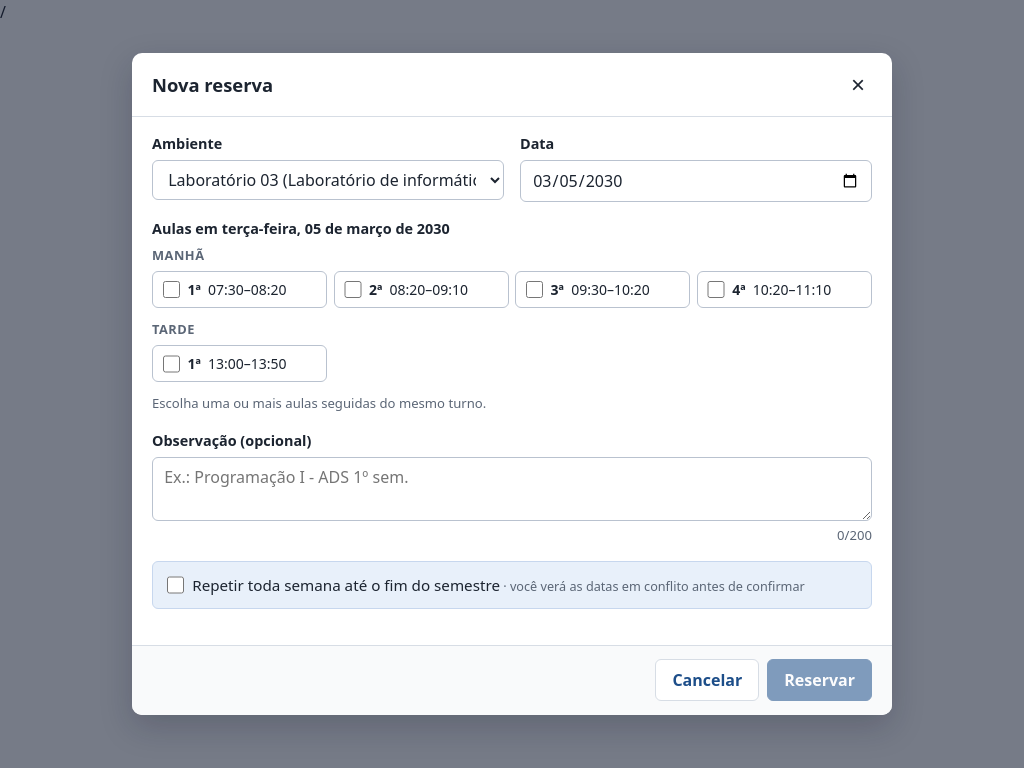
ModalReserva: recorrência com prévia › conflito surgido entre prévia e confirmação refaz a prévia mantendo a seleção ainda livre
This screenshot has width=1024, height=768.
Expected: the text "Aulas em" is shown, [152, 219, 450, 238]
Click the 6th checkbox.
click(175, 585)  # box [167, 576, 184, 594]
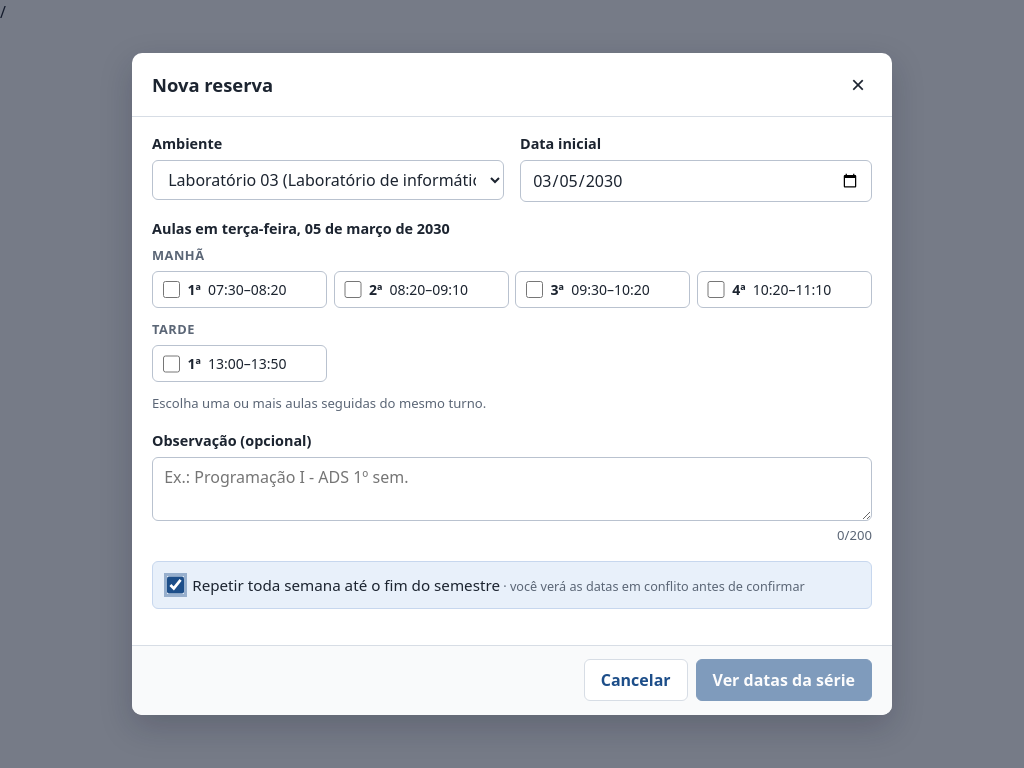
Click the checkbox labelled "1ª 07:30–08:20".
click(171, 290)  # box [163, 281, 180, 298]
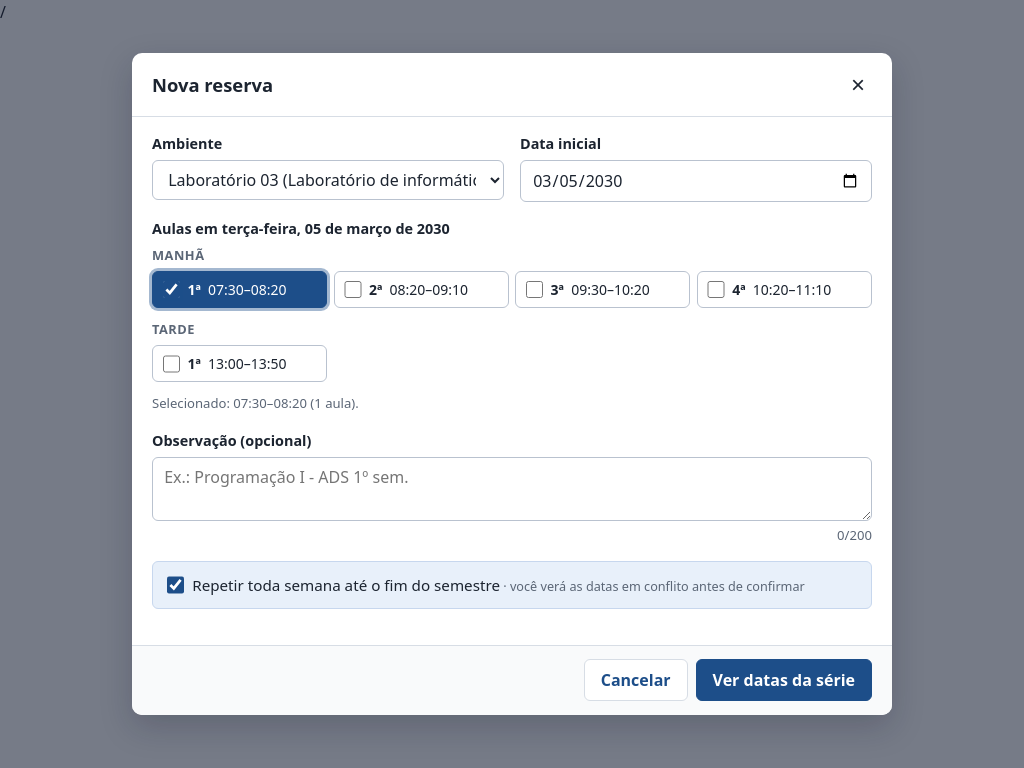
Click the checkbox labelled "2ª 08:20–09:10".
click(353, 290)  # box [344, 281, 362, 298]
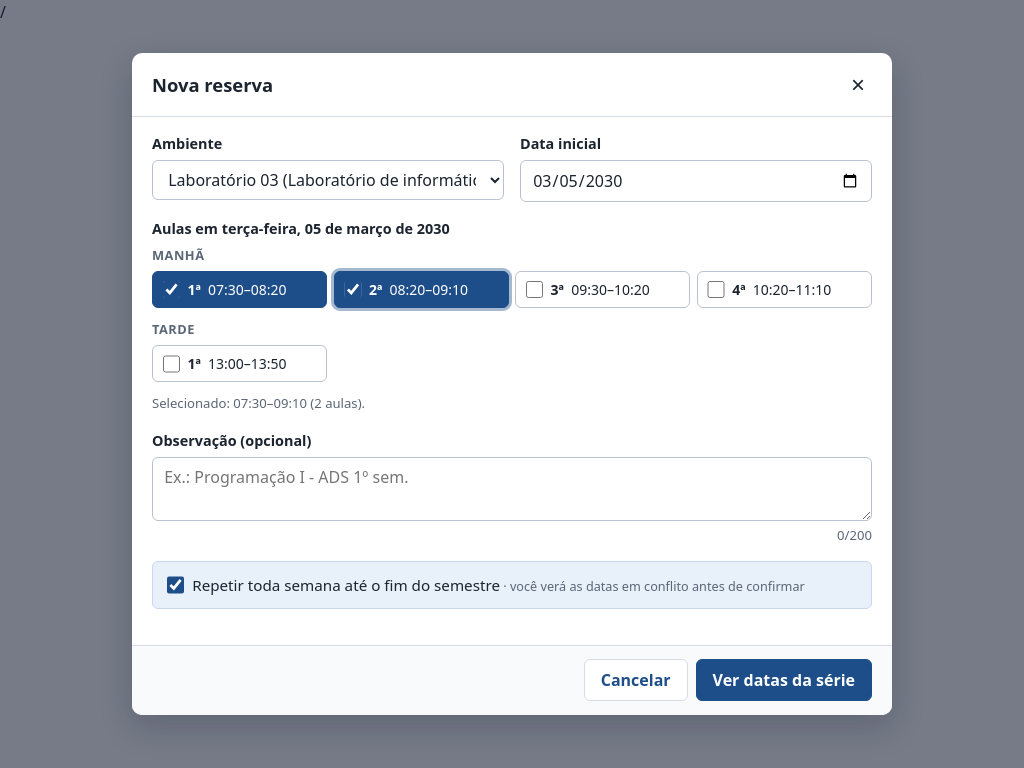
Click the button "Ver datas da série".
click(784, 680)  # box [696, 659, 872, 701]
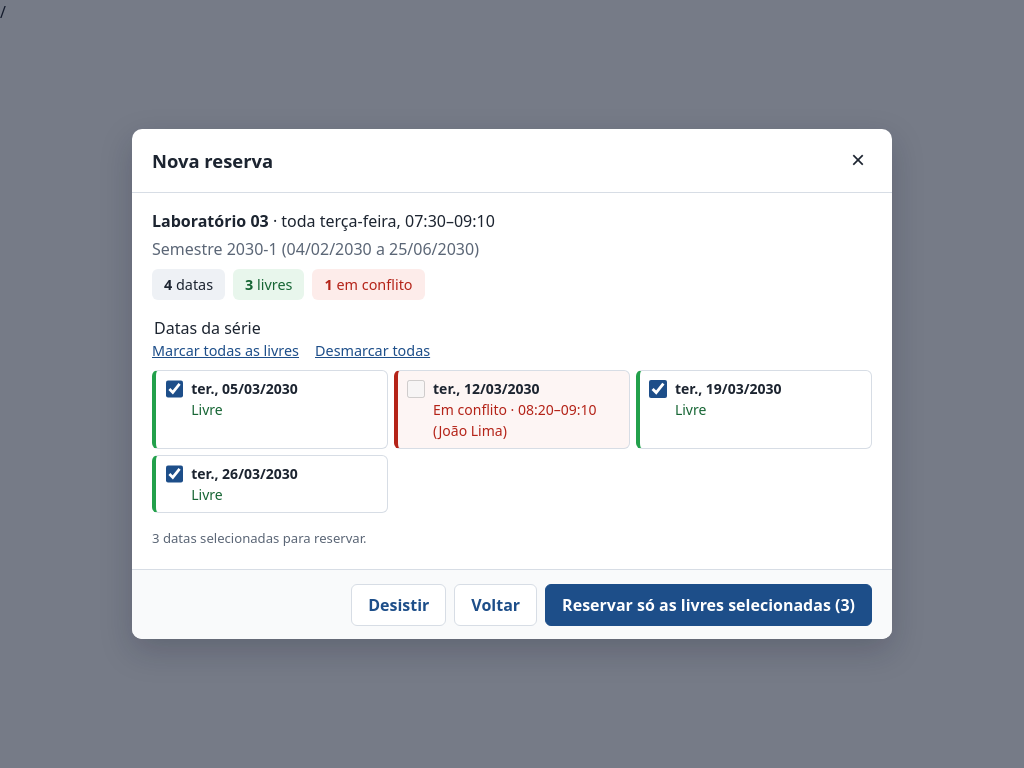
Now the text "Datas da série" is shown, box [152, 316, 263, 340]
Click the checkbox labelled "ter., 26/03/2030 Livre".
click(174, 474)  # box [166, 465, 183, 483]
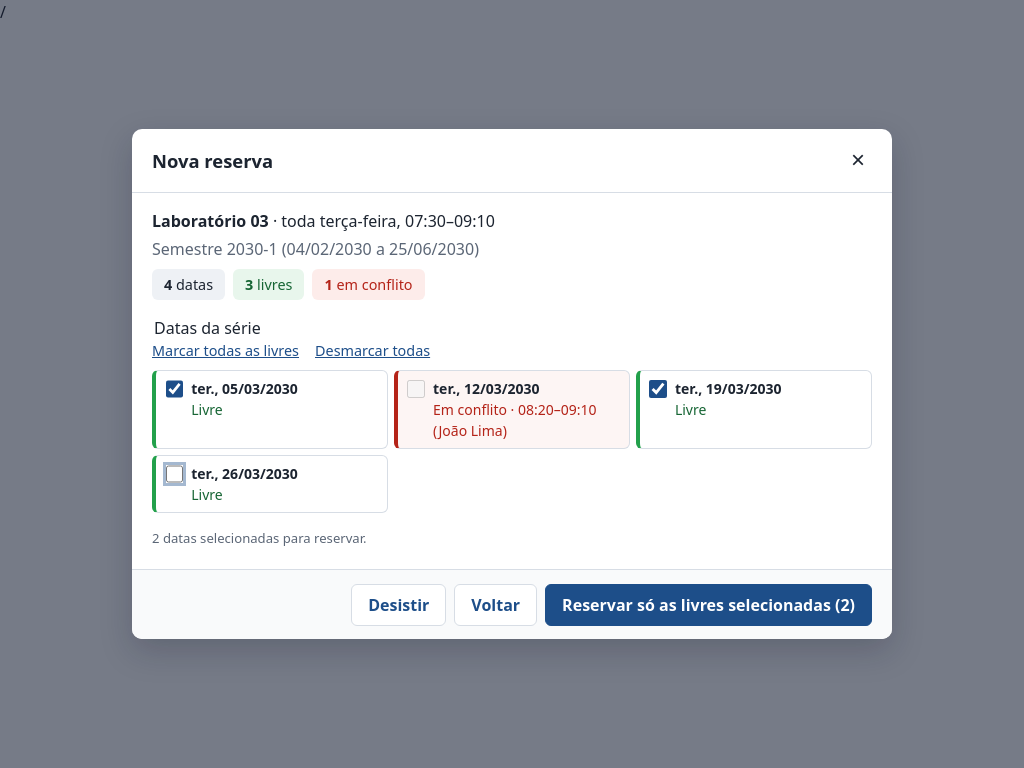
Click the button "Reservar só as livres selecionadas (2)".
click(709, 604)  # box [545, 584, 872, 626]
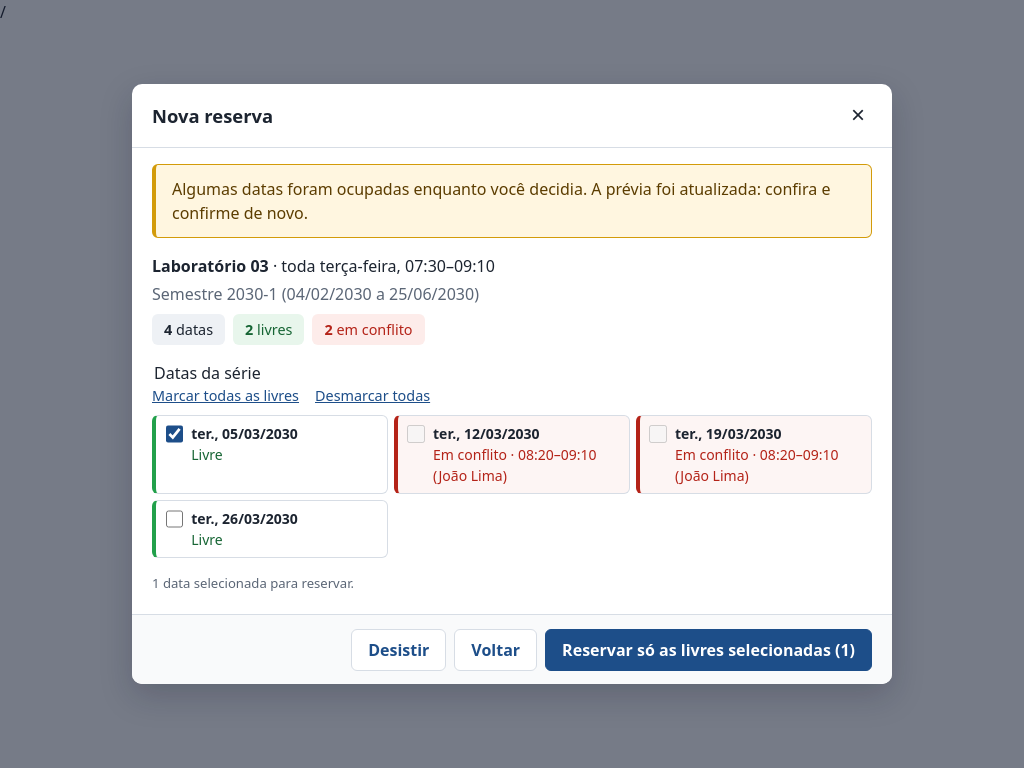
Now the button "Reservar só as livres selecionadas (1)" is enabled, box [545, 628, 872, 670]
Now the text "foram ocupadas enquanto você decidia" is shown, box [172, 178, 830, 224]
